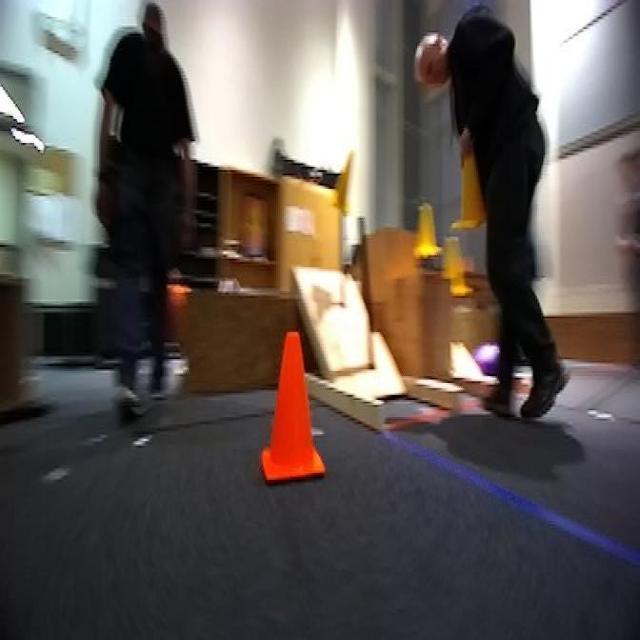frc_cone: (458, 145, 488, 226), (406, 197, 431, 274), (442, 225, 468, 296), (331, 151, 356, 213)
frc_cube: (472, 342, 500, 375)
